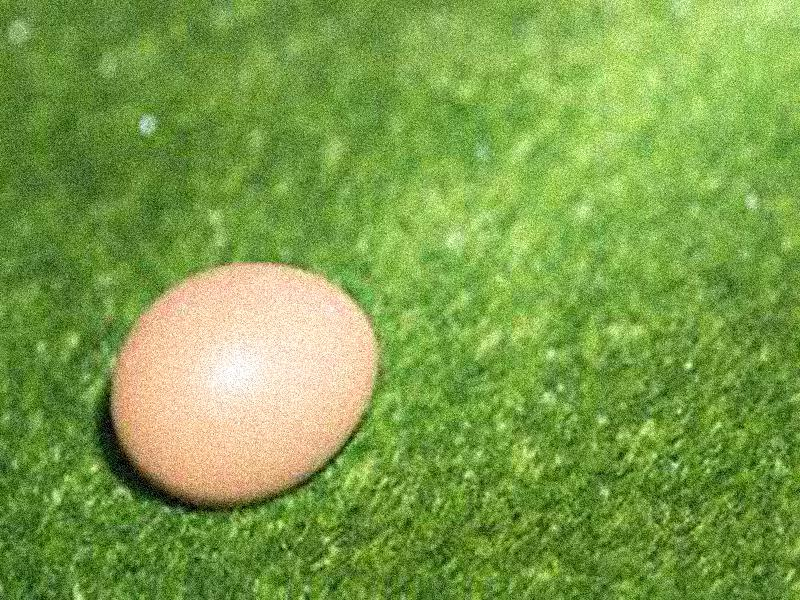Eggs: (108, 266, 381, 508)
